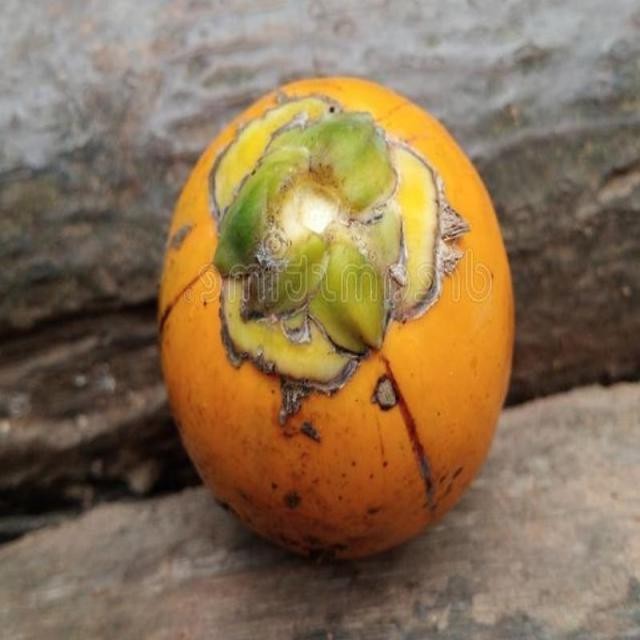good: (158, 77, 515, 564)
